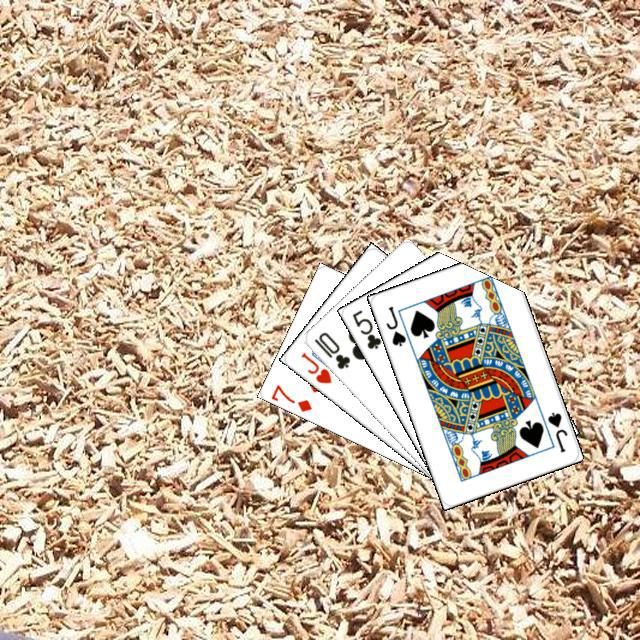10c: (309, 327, 352, 371)
5c: (347, 305, 383, 351)
7d: (267, 380, 314, 414)
Jh: (296, 347, 333, 385)
Js: (381, 301, 408, 348), (543, 407, 569, 454)
